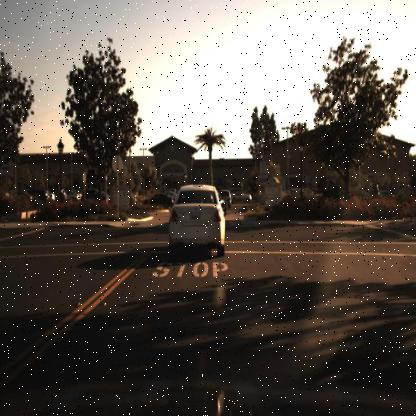car: (166, 178, 228, 257), (76, 188, 110, 202), (217, 186, 236, 210), (146, 192, 170, 210), (230, 188, 253, 204), (228, 189, 251, 203)
